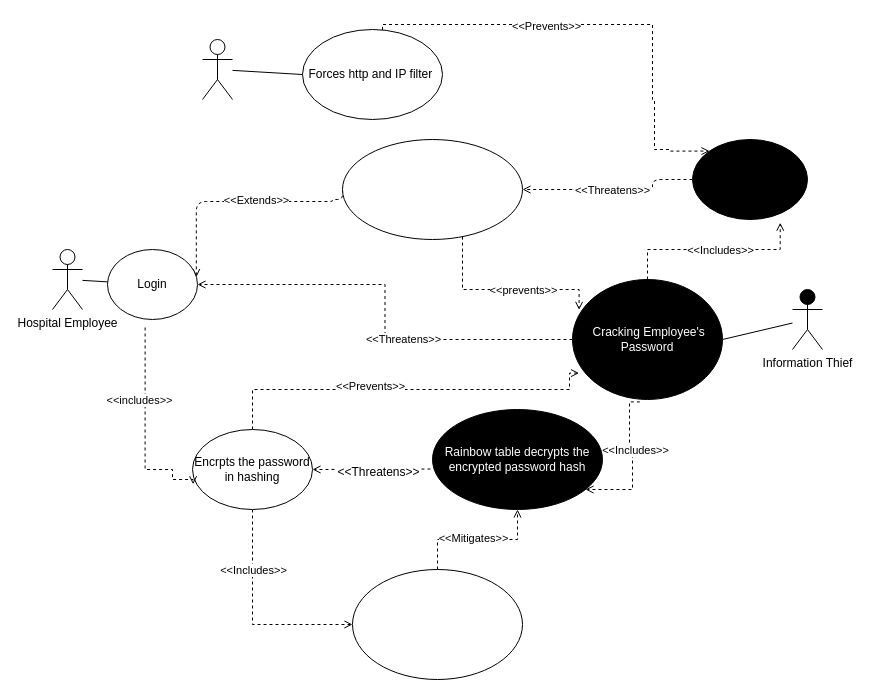
Image size: 869x697. Some labels were removed from this diagram. The shapes that lost their labels are listed below. From the top down, each one's centre as x and y in pixels, then its label:
At point 217,69: "Elasticsearch Admin".
At point 432,189: "Multi-factor authentication".
At point 750,179: "Man in the middle attack".
At point 437,624: "Stronger password encrption with Salting".
